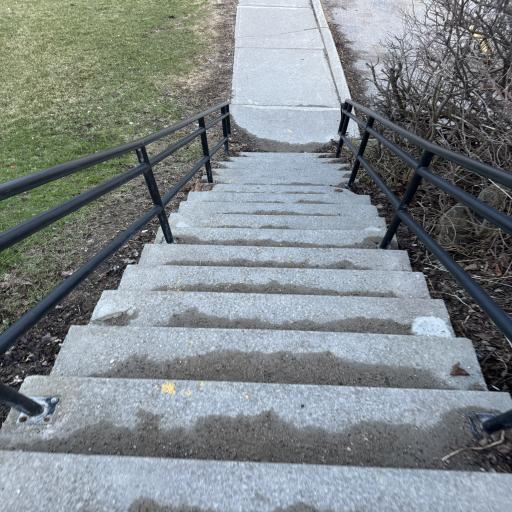Stairs: (0, 153, 512, 512)
